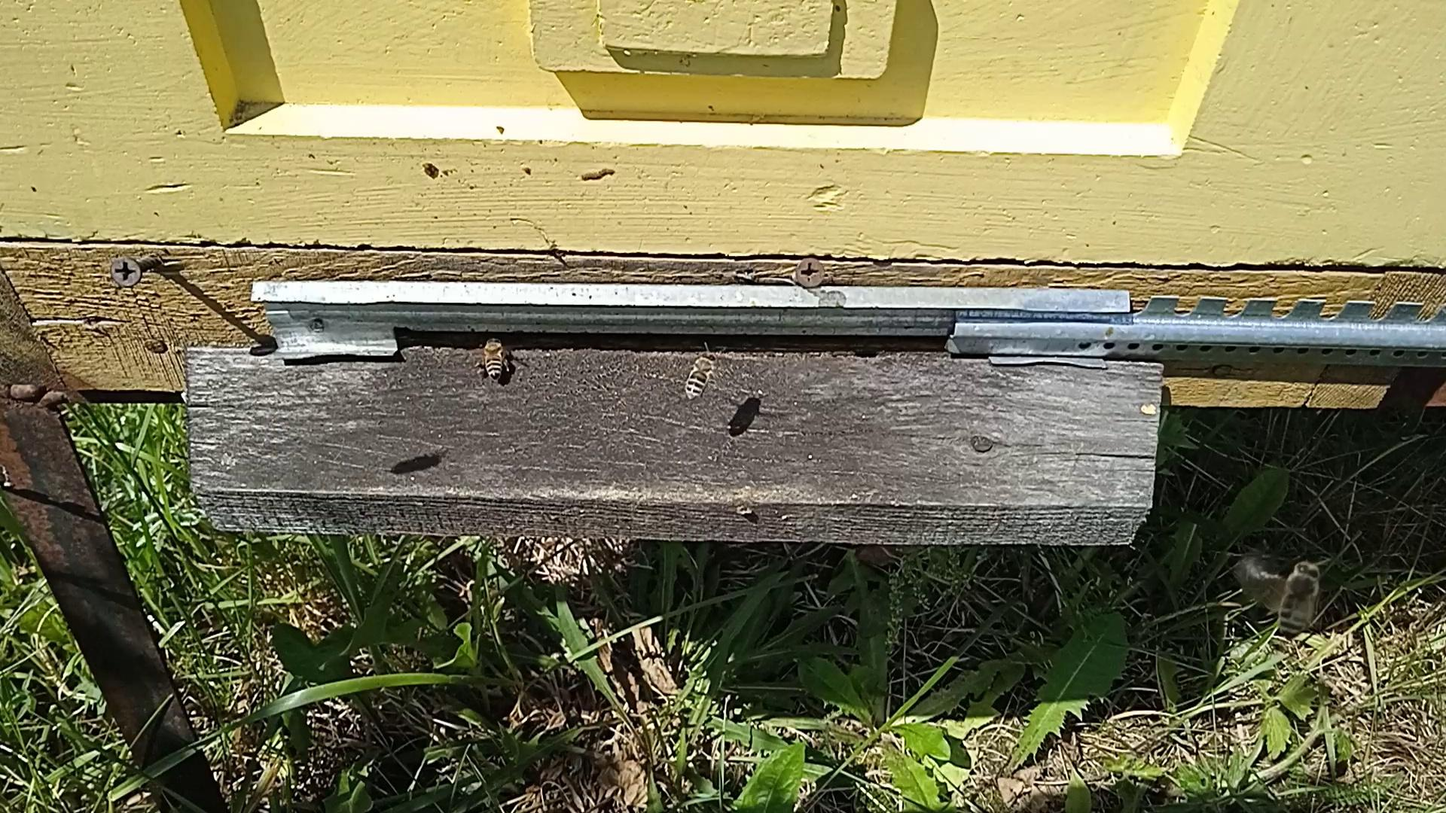worker-bee: (1277, 558, 1325, 639), (683, 349, 719, 400), (476, 334, 511, 382)
